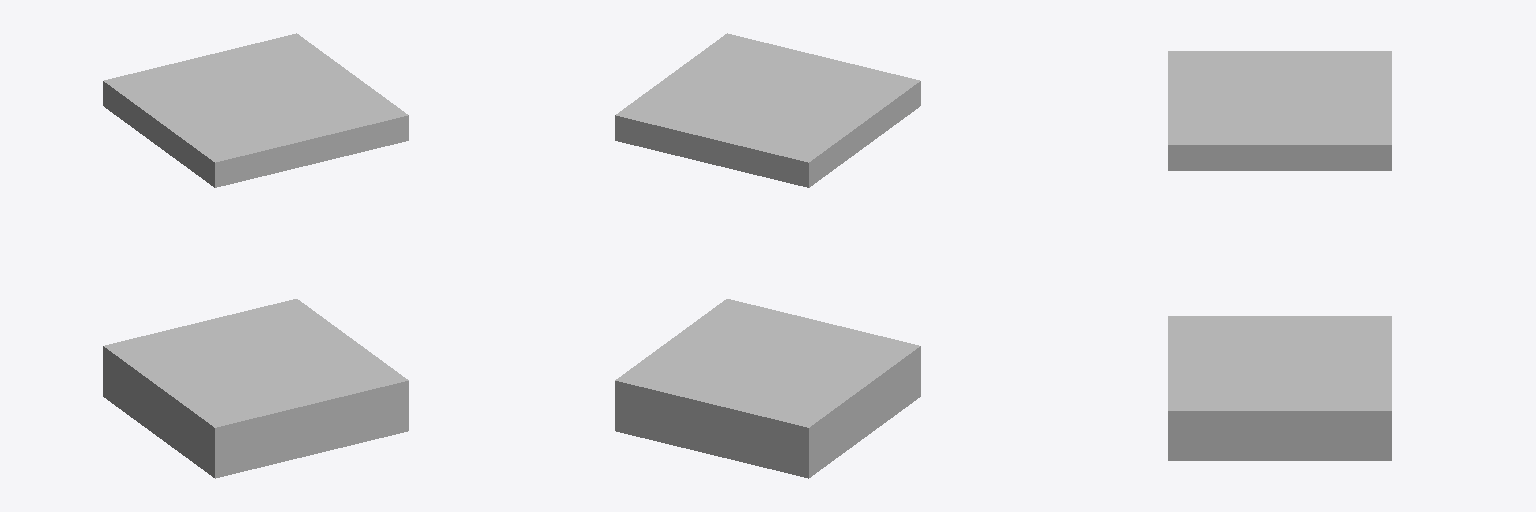
Rendered from Floor.obj.
3 views of the same model, side by side, from view 1: azimuth 30°, elevation 25°; view 2: azimuth 150°, elevation 25°; view 3: azimuth 270°, elevation 25° (orthographic).
Visible parts, largest first — view 1: Cube.002, Cube.001; view 2: Cube.002, Cube.001; view 3: Cube.002, Cube.001.
Boxes of the visible parts, box(x1,y1,x2,y2) form: Cube.002: box(103, 299, 408, 478); Cube.001: box(103, 33, 408, 187); Cube.002: box(615, 299, 920, 478); Cube.001: box(615, 33, 920, 187); Cube.002: box(1168, 316, 1391, 460); Cube.001: box(1168, 51, 1391, 170).
Bounding box in the file's own units: 4 × 6.22 × 4.